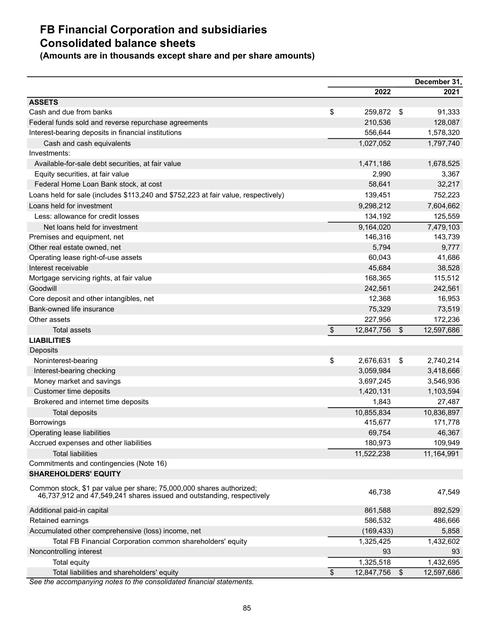box: (26, 74, 465, 580)
